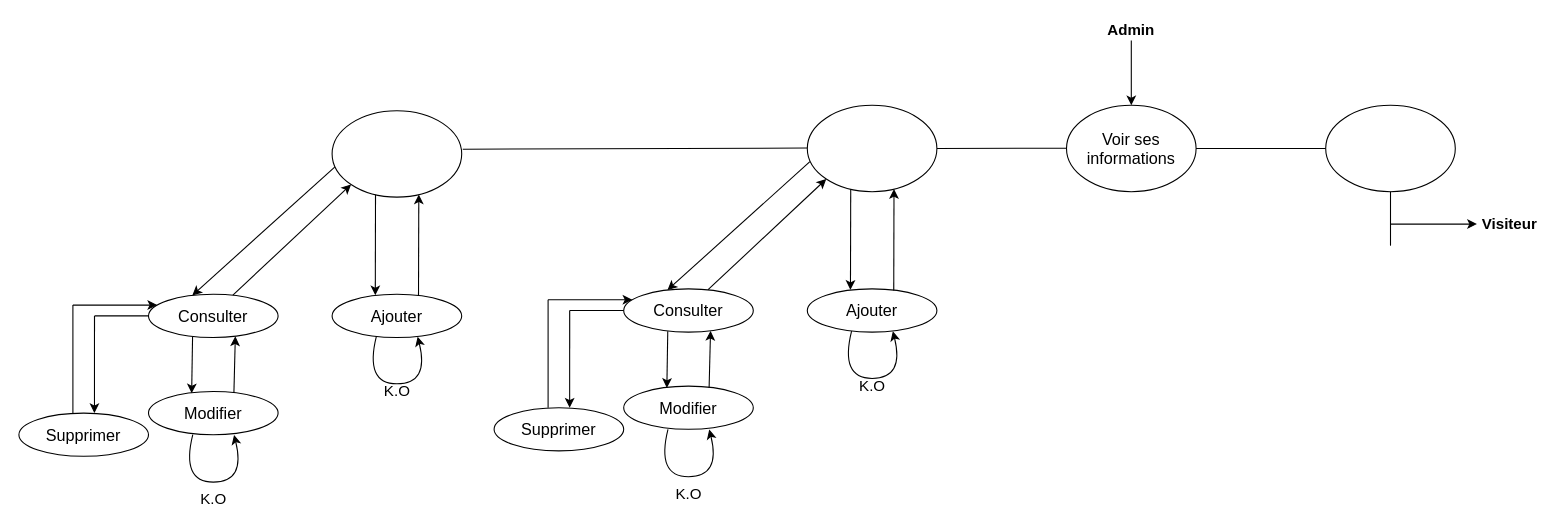
Some shapes in this 1566 by 528 pixel diagram are drawn without their labels. The shapes that lost their labels are listed below. From the top down, each one's centre as x and y in pixels, then its label:
point (396, 153): Voir les Utilisateurs
point (871, 148): Voir les formations
point (1390, 148): Se déconnecter
